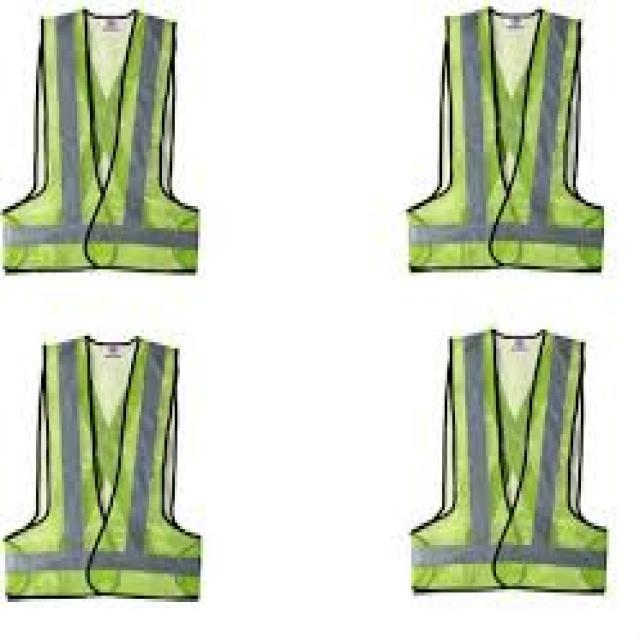Reflective-Jacket: (396, 323, 622, 602), (390, 9, 620, 279), (0, 6, 216, 282), (0, 326, 213, 598)
